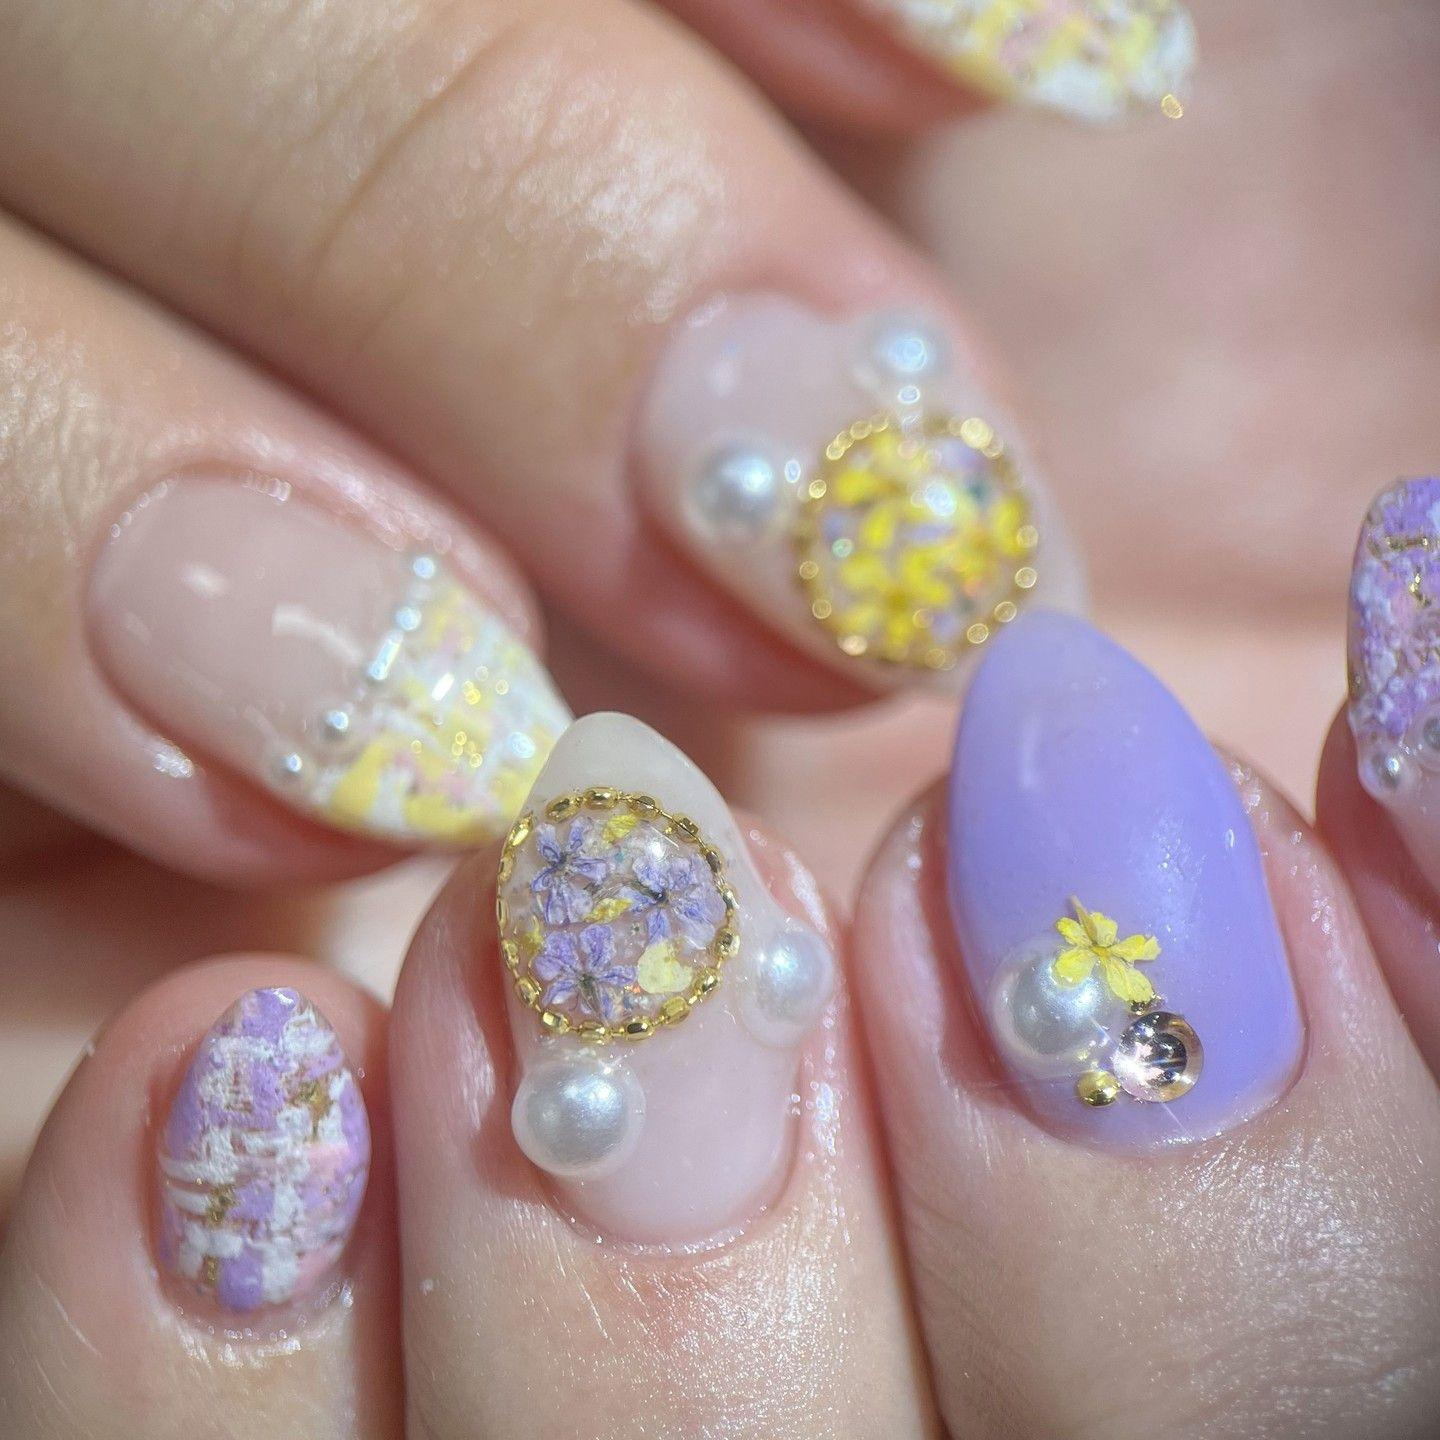nail: (940, 604, 1309, 1155), (78, 454, 574, 849), (491, 707, 836, 1250), (149, 982, 373, 1329), (1342, 471, 1437, 895)
